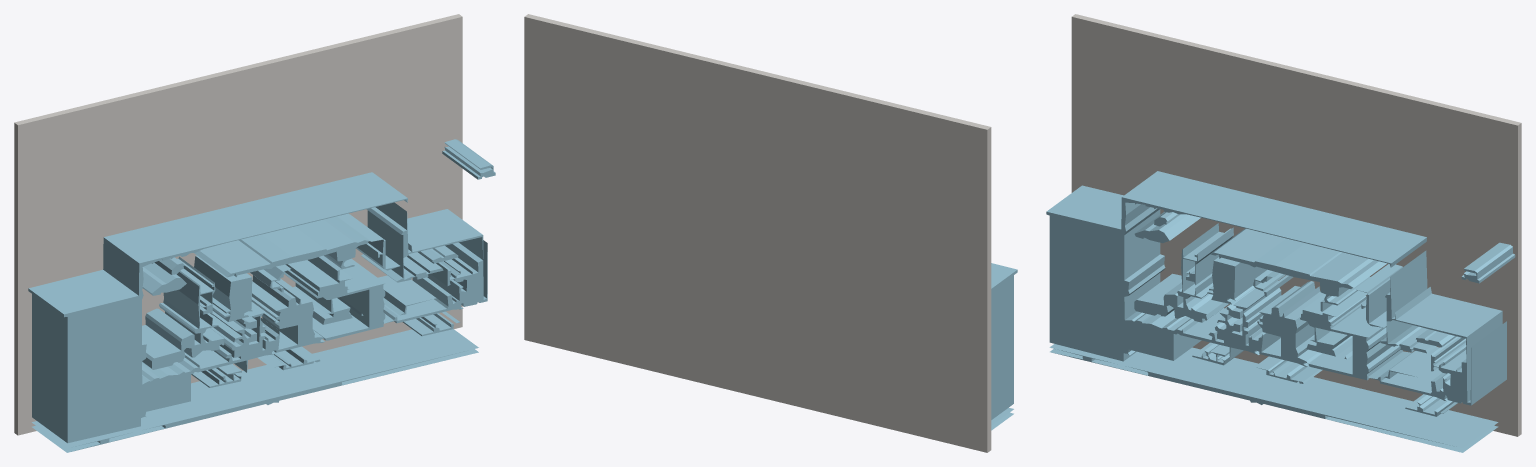
3 views of the same model, side by side, from view 1: azimuth 30°, elevation 25°; view 2: azimuth 150°, elevation 25°; view 3: azimuth 330°, elevation 25° (orthographic). The views are drawn at different scales.
Parts seen in each view (by area): view 1: world; view 2: world; view 3: world.
Part boxes in pixels (x1,y1,x2,y2): world: (14,14,495,452); world: (524,14,1017,452); world: (1046,14,1521,452).
Bounding box in the file's own units: 10.23 × 6.82 × 1.57.
